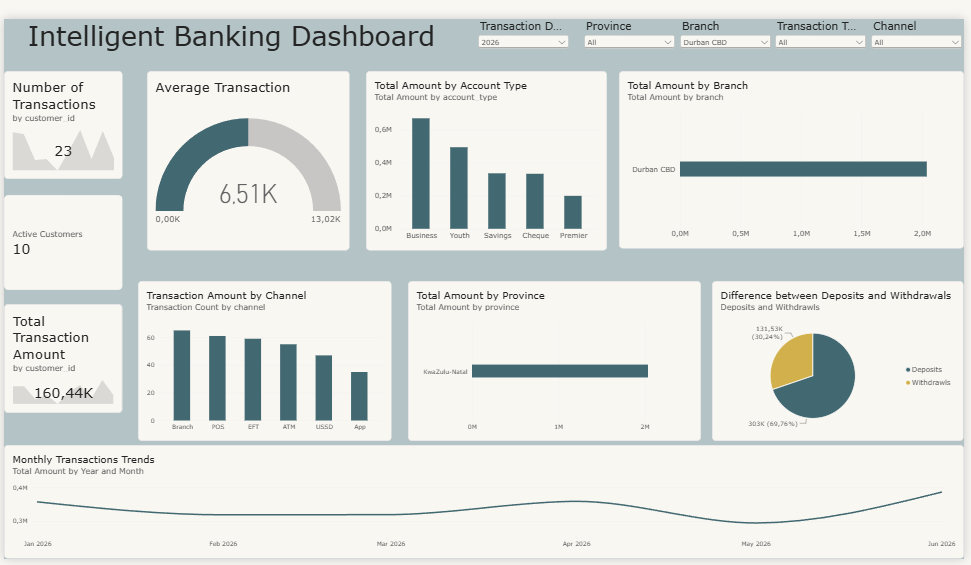

Layout of this report page (visuals, bound fields, positions):
{"tool":"powerbi","page":{"name":"Page 1","canvas":[1920,1080],"ordinal":0},"visuals":[{"type":"textbox","box":[0,0,890.6,79],"z":0},{"type":"kpi","fields":{"Indicator":["Dim_Transaction.Total Transaction Amount"],"TrendLine":["Dim_Transaction.customer_id"]},"box":[0,570.6,237.1,217.8],"z":1000},{"type":"kpi","fields":{"Indicator":["Dim_Transaction.Number of Transactions"],"TrendLine":["Dim_Transaction.customer_id"]},"box":[0,104.1,237.1,215.9],"z":2000},{"type":"cardVisual","fields":{"Data":["Dim_Account.Total Customers"]},"box":[0,352.8,237.1,190.8],"z":3000},{"type":"gauge","fields":{"Y":["Dim_Account.Average Transaction"]},"box":[285.3,104.1,404.8,358.6],"z":4000},{"type":"barChart","title":"Total Amount by Province","fields":{"Category":["Dim_Branch.province"],"Y":["Dim_Account.Total Amount"]},"box":[807.7,524.3,586,320],"z":5000},{"type":"barChart","title":"Total Amount by Branch","fields":{"Category":["Dim_Branch.branch"],"Y":["Dim_Account.Total Amount"]},"box":[1229.9,104.1,690.1,354.7],"z":6000},{"type":"columnChart","title":"Transaction Amount by Channel","fields":{"Category":["Dim_Channel.channel"],"Y":["Dim_Account.Transaction Count"]},"box":[268,524.3,507,320],"z":7000},{"type":"columnChart","title":"Total Amount by Account Type","fields":{"Category":["Dim_Account.account_type"],"Y":["Dim_Account.Total Amount"]},"box":[724.8,104.1,481.9,358.6],"z":8000},{"type":"lineChart","title":"Monthly Transactions Trends","fields":{"Category":["Dim_Date.transaction_date.Variation.Date Hierarchy.Year","Dim_Date.transaction_date.Variation.Date Hierarchy.Month"],"Y":["Dim_Account.Total Amount"]},"box":[0,852,1920,227.5],"z":9000},{"type":"pieChart","title":"Difference between Deposits and Withdrawals","fields":{"Y":["Dim_Account.Deposits Count","Dim_Account.Withdrawls Count"]},"box":[1416.9,524.3,503.1,320],"z":10000},{"type":"slicer","fields":{"Values":["Dim_Date.transaction_date.Variation.Date Hierarchy.Year","Dim_Date.transaction_date.Variation.Date Hierarchy.Month"]},"box":[944.6,0,190,104.1],"z":11000},{"type":"slicer","fields":{"Values":["Dim_Branch.province"]},"box":[1156.6,0,190,104.1],"z":12000},{"type":"slicer","fields":{"Values":["Dim_Branch.branch"]},"box":[1347.5,0,190.8,104.1],"z":13000},{"type":"slicer","fields":{"Values":["Dim_Channel.channel"]},"box":[1729.2,0,190.8,104.1],"z":14000},{"type":"slicer","fields":{"Values":["Dim_TransactionType.transaction_type"]},"box":[1538.3,0,190.8,104.1],"z":15000}]}

Visuals, with their boxes on the page's 1920x1080 design canvas (x1, y1, x2, y2). These are canvas units, not pixel positions in the 971x565 screenshot, which may show the page scaled, cropped or inside an application window:
textbox: pyautogui.locateOnScreen(0, 0, 891, 79)
kpi - Dim_Transaction.Total Transaction Amount x Dim_Transaction.customer_id: pyautogui.locateOnScreen(0, 571, 237, 788)
kpi - Dim_Transaction.Number of Transactions x Dim_Transaction.customer_id: pyautogui.locateOnScreen(0, 104, 237, 320)
cardVisual - Dim_Account.Total Customers: pyautogui.locateOnScreen(0, 353, 237, 544)
gauge - Dim_Account.Average Transaction: pyautogui.locateOnScreen(285, 104, 690, 463)
"Total Amount by Province" barChart: pyautogui.locateOnScreen(808, 524, 1394, 844)
"Total Amount by Branch" barChart: pyautogui.locateOnScreen(1230, 104, 1920, 459)
"Transaction Amount by Channel" columnChart: pyautogui.locateOnScreen(268, 524, 775, 844)
"Total Amount by Account Type" columnChart: pyautogui.locateOnScreen(725, 104, 1207, 463)
"Monthly Transactions Trends" lineChart: pyautogui.locateOnScreen(0, 852, 1920, 1080)
"Difference between Deposits and Withdrawals" pieChart: pyautogui.locateOnScreen(1417, 524, 1920, 844)
slicer - Dim_Date.transaction_date.Variation.Date Hierarchy.Year x Dim_Date.transaction_date.Variation.Date Hierarchy.Month: pyautogui.locateOnScreen(945, 0, 1135, 104)
slicer - Dim_Branch.province: pyautogui.locateOnScreen(1157, 0, 1347, 104)
slicer - Dim_Branch.branch: pyautogui.locateOnScreen(1348, 0, 1538, 104)
slicer - Dim_Channel.channel: pyautogui.locateOnScreen(1729, 0, 1920, 104)
slicer - Dim_TransactionType.transaction_type: pyautogui.locateOnScreen(1538, 0, 1729, 104)
